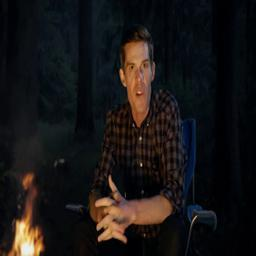fire: (7, 175, 44, 256)
